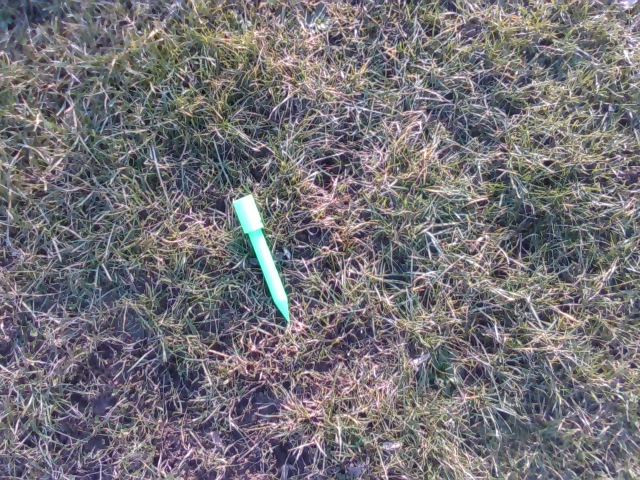Probe: (228, 192, 293, 332)
